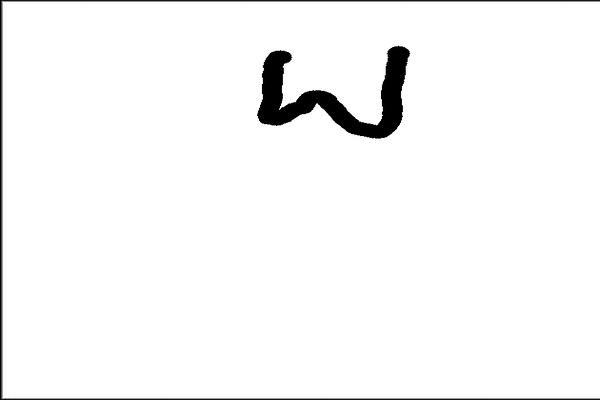w: (245, 40, 429, 147)
